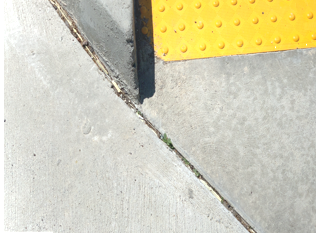Edge: (52, 0, 143, 109)
